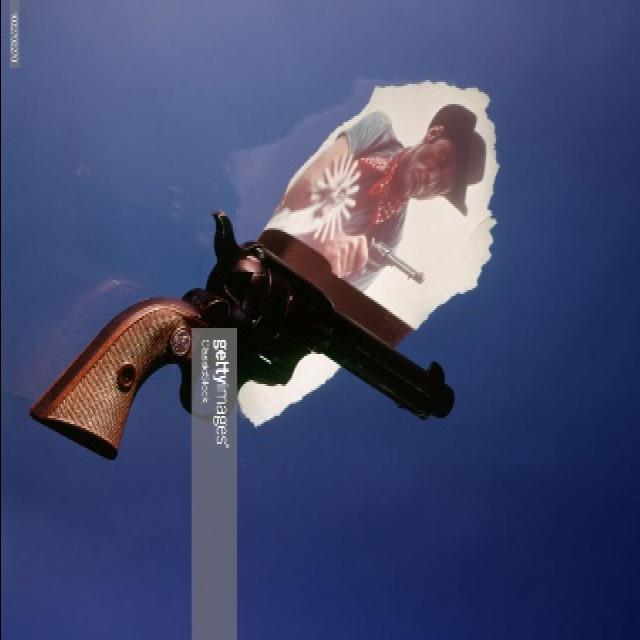handgun: (30, 213, 461, 461)
